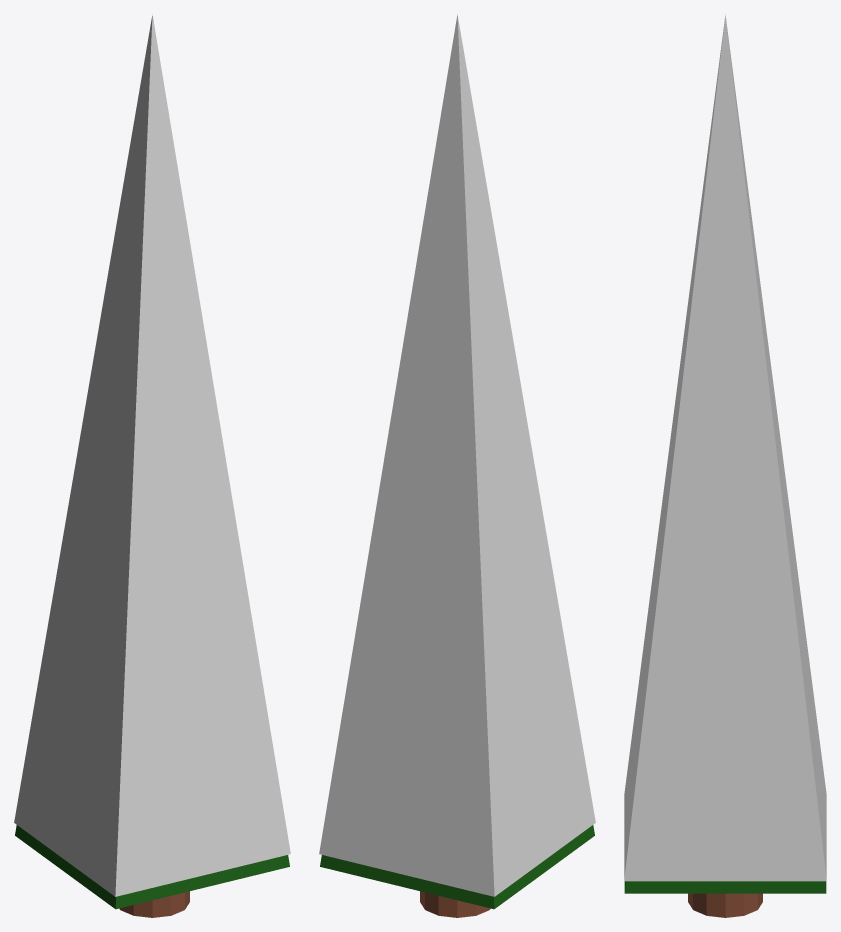
The model's file is Tree_19_winter.fbx.
3 renders of one model, left to right at view 1: azimuth 30°, elevation 25°; view 2: azimuth 150°, elevation 25°; view 3: azimuth 270°, elevation 25°, orthographic.
Parts seen in each view (by area): view 1: Tree_19_winter; view 2: Tree_19_winter; view 3: Tree_19_winter.
Boxes of the visible parts, box(x1,y1,x2,y2) form: Tree_19_winter: box(14, 14, 290, 917); Tree_19_winter: box(319, 14, 595, 917); Tree_19_winter: box(624, 14, 826, 917).
Size of the model in its own units: 60.03 by 290 by 60.03.
